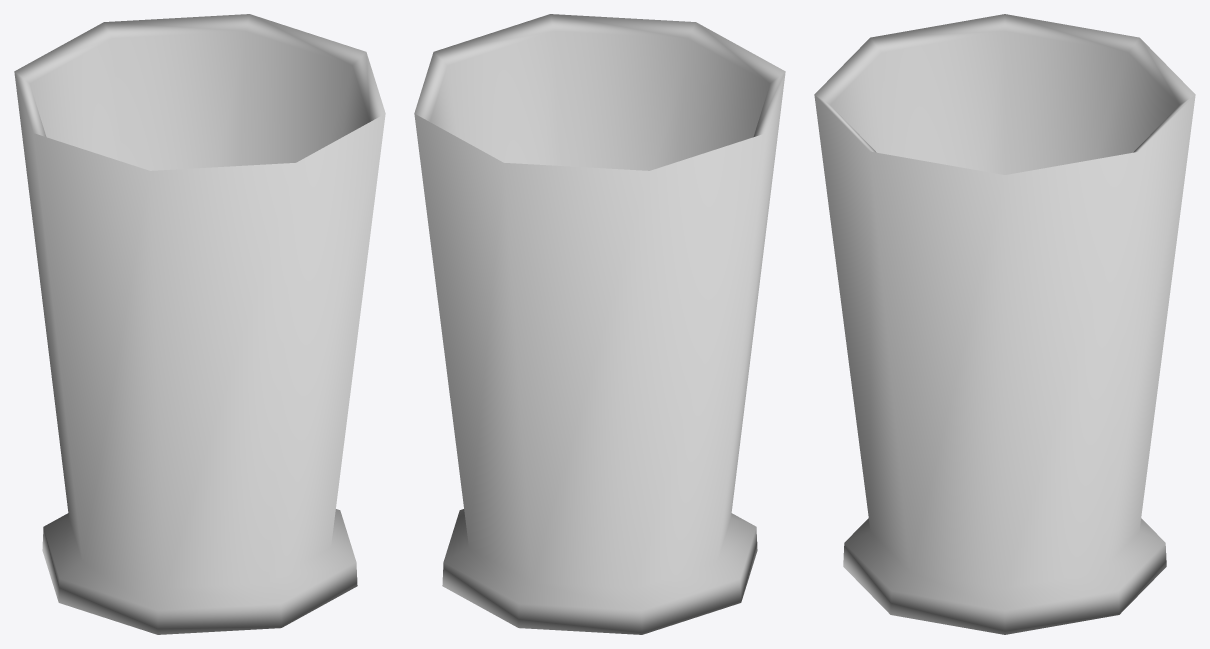
The model's file is Glass.FBX.
The picture shows the model from 3 angles, left to right: view 1: azimuth 30°, elevation 25°; view 2: azimuth 150°, elevation 25°; view 3: azimuth 270°, elevation 25°; orthographic projection.
Parts seen in each view (by area): view 1: Cup; view 2: Cup; view 3: Cup.
Boxes of the visible parts, x1,y1,x2,y2 form: Cup: (14, 14, 385, 634); Cup: (414, 14, 785, 634); Cup: (814, 14, 1195, 634).
Size of the model in its own units: 35.46 by 48.44 by 35.46.
